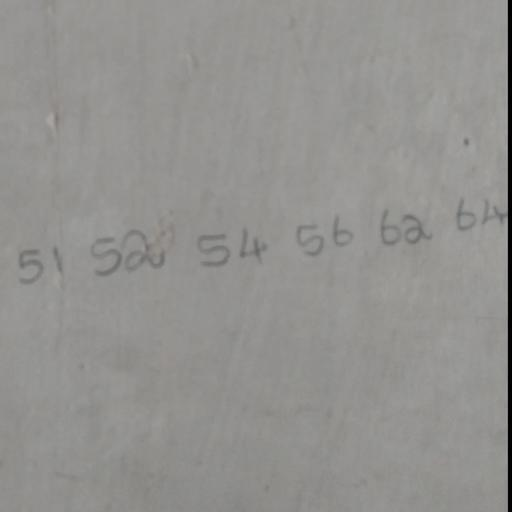stain: (13, 192, 512, 290), (458, 128, 481, 156)
